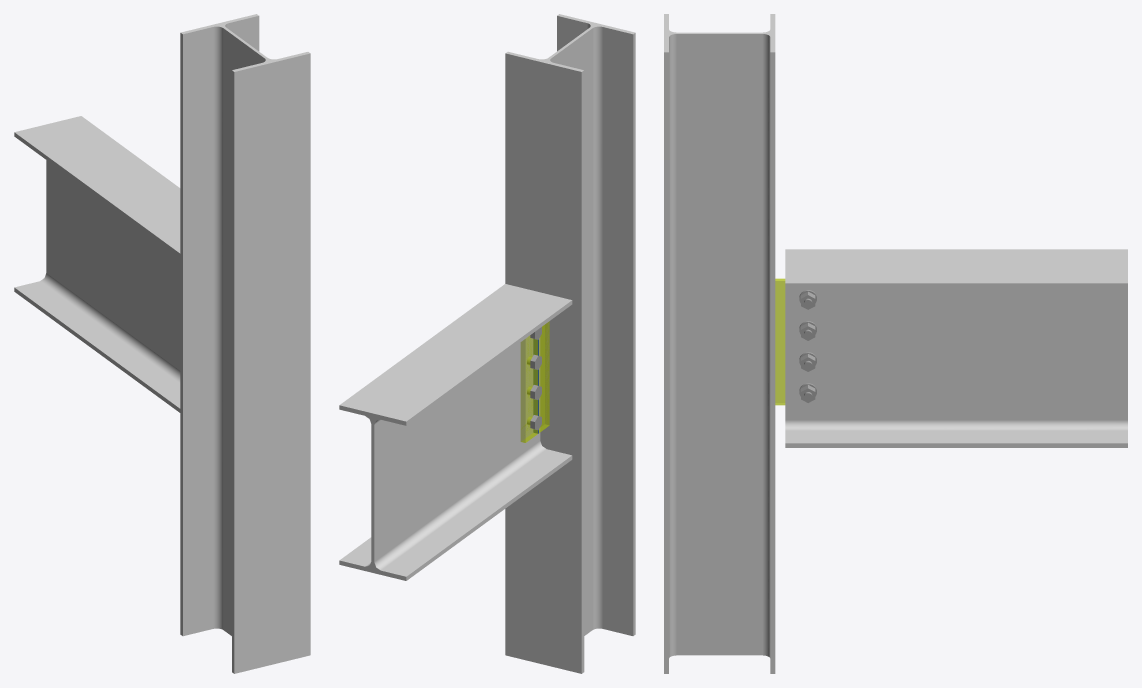
Rendered from 02a-Shear Yield (plate).glb.
3 renders of one model, left to right at view 1: azimuth 30°, elevation 25°; view 2: azimuth 150°, elevation 25°; view 3: azimuth 270°, elevation 25°, orthographic. The views are drawn at different scales.
Parts seen in each view (by area): view 1: W-Wide Flange-Column W10X33 (1) [1245414], W-Wide Flange W16X36 (1) [1518880]; view 2: W-Wide Flange-Column W10X33 (1) [1245414], W-Wide Flange W16X36 (1) [1518880], [1714889], [1714891]; view 3: W-Wide Flange-Column W10X33 (1) [1245414], W-Wide Flange W16X36 (1) [1518880], [1714889], [1714891].
Boxes of the visible parts, box(x1,y1,x2,y2) form: W-Wide Flange-Column W10X33 (1) [1245414]: box(180, 14, 310, 673); W-Wide Flange W16X36 (1) [1518880]: box(14, 116, 180, 412); W-Wide Flange-Column W10X33 (1) [1245414]: box(505, 14, 635, 673); W-Wide Flange W16X36 (1) [1518880]: box(339, 284, 572, 580); [1714889]: box(520, 321, 549, 442); [1714891]: box(527, 327, 541, 430); W-Wide Flange-Column W10X33 (1) [1245414]: box(664, 14, 775, 673); W-Wide Flange W16X36 (1) [1518880]: box(785, 249, 1127, 447); [1714889]: box(775, 278, 785, 405); [1714891]: box(799, 290, 816, 402).
Size of the model in its own units: 0.2022 by 1.52 by 1.03.
